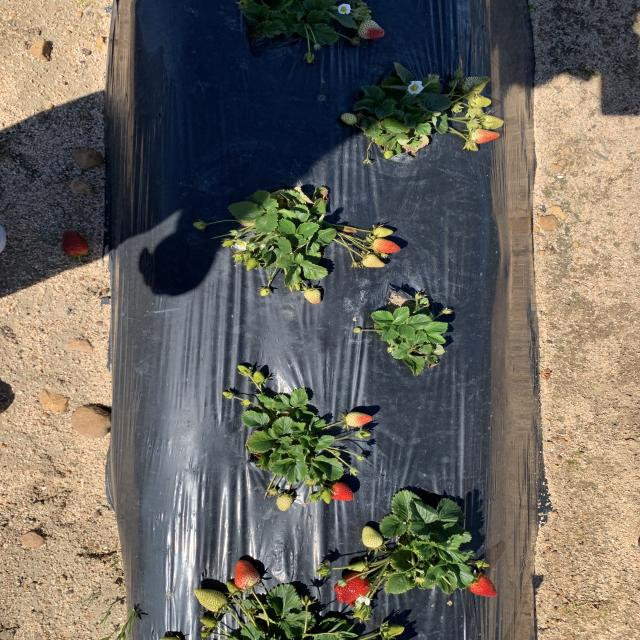unripe: (334, 570, 372, 608), (464, 573, 500, 598), (232, 558, 260, 586), (328, 480, 357, 503), (372, 238, 402, 256)
